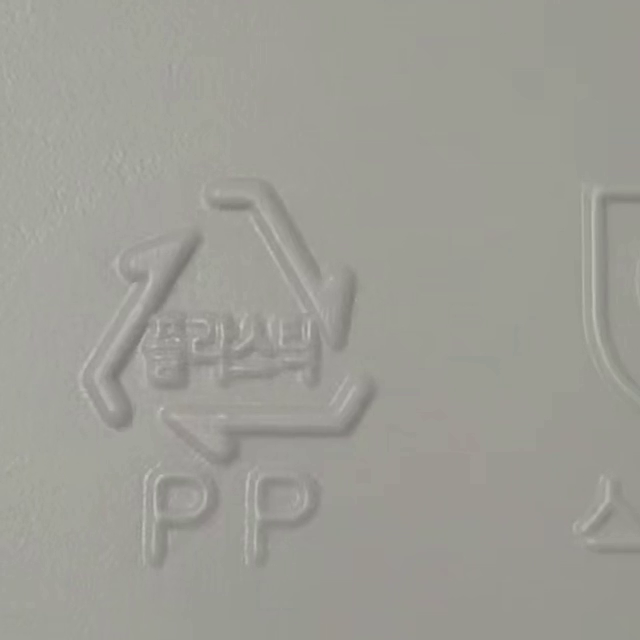Plastic: (78, 178, 381, 464)
